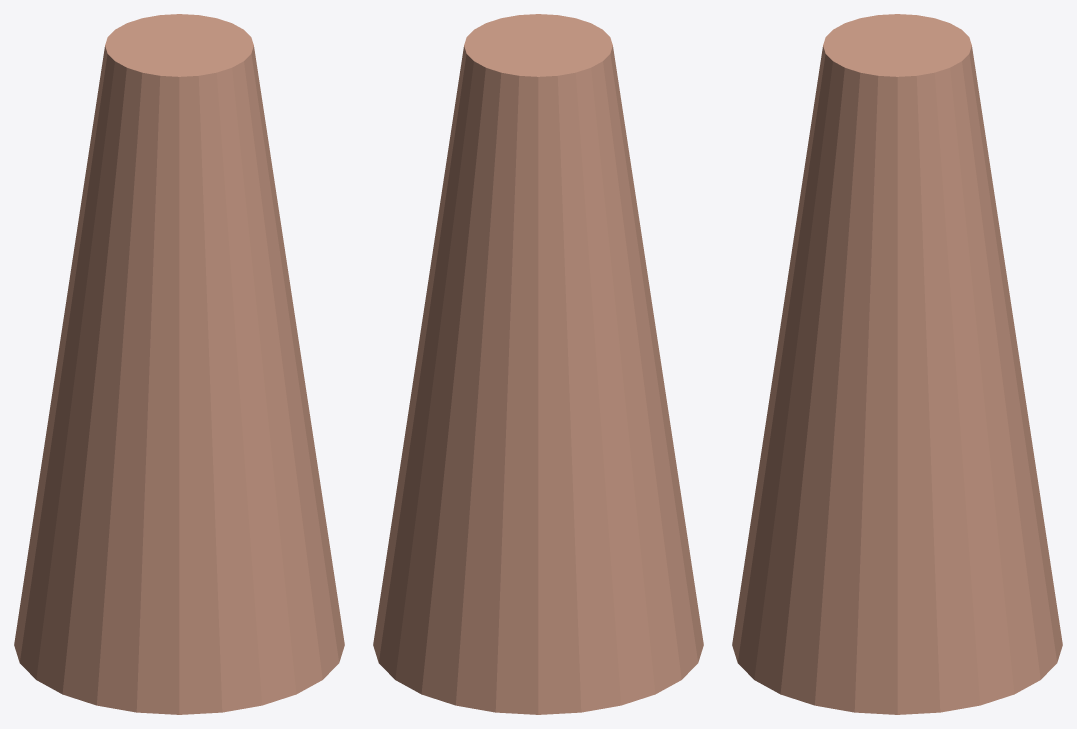
The model's file is place-itchan-kala-khiva.glb.
3 renders of one model, left to right at view 1: azimuth 30°, elevation 25°; view 2: azimuth 150°, elevation 25°; view 3: azimuth 270°, elevation 25°, orthographic.
Parts seen in each view (by area): view 1: place-itchan-kala-khiva; view 2: place-itchan-kala-khiva; view 3: place-itchan-kala-khiva.
Part boxes in pixels (x1=…): place-itchan-kala-khiva: x1=14, y1=14, x2=344, y2=714; place-itchan-kala-khiva: x1=373, y1=14, x2=703, y2=714; place-itchan-kala-khiva: x1=732, y1=14, x2=1062, y2=714.
Bounding box in the file's own units: 14.5 × 29 × 14.5.
